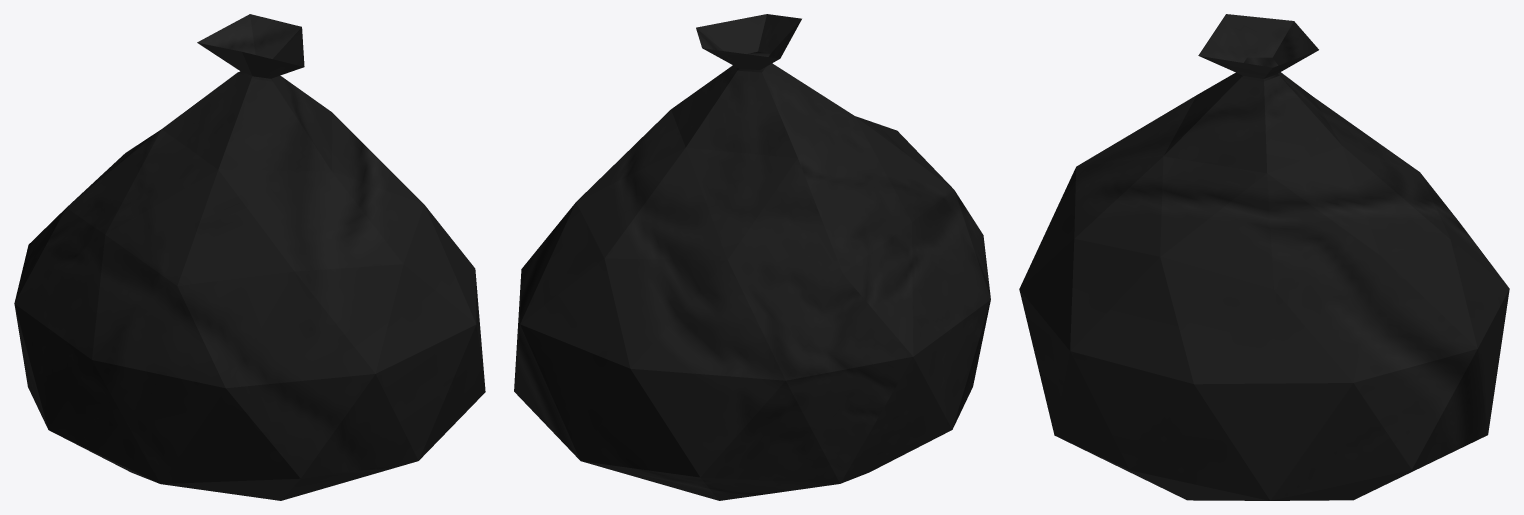
The model's file is trash2.fbx.
The picture shows the model from 3 angles, left to right: view 1: azimuth 30°, elevation 25°; view 2: azimuth 150°, elevation 25°; view 3: azimuth 270°, elevation 25°; orthographic projection.
Visible parts, largest first — view 1: garbage-bag-half-full; view 2: garbage-bag-half-full; view 3: garbage-bag-half-full.
Boxes of the visible parts, box(x1,y1,x2,y2) form: garbage-bag-half-full: box(14, 14, 485, 500); garbage-bag-half-full: box(514, 14, 990, 500); garbage-bag-half-full: box(1019, 14, 1509, 500).
Size of the model in its own units: 53.25 by 54.08 by 56.3.
